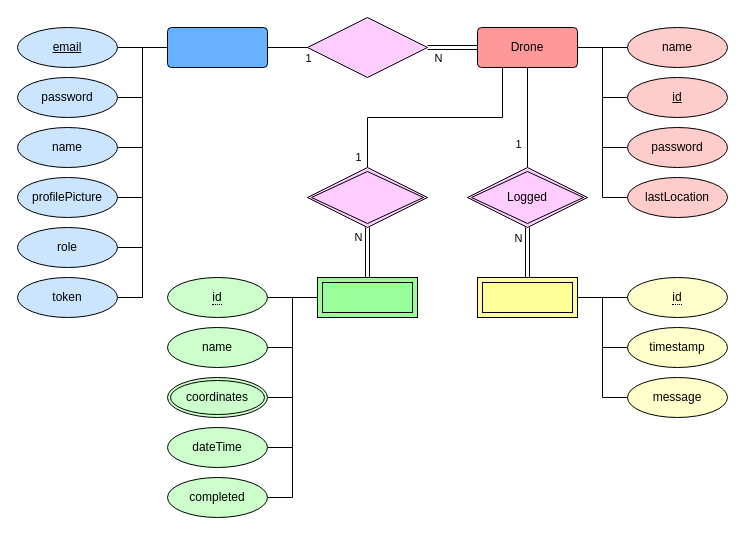
The diagram is 745 pixels wide and 535 high, and some of its shapes have lost their labels. The centre of each missing label's shape, as x and y in pixels:
"Has" goes at point (367, 197).
"Log" goes at point (527, 297).
"Mission" goes at point (367, 297).
"Owns" goes at point (367, 47).
"User" goes at point (217, 47).
